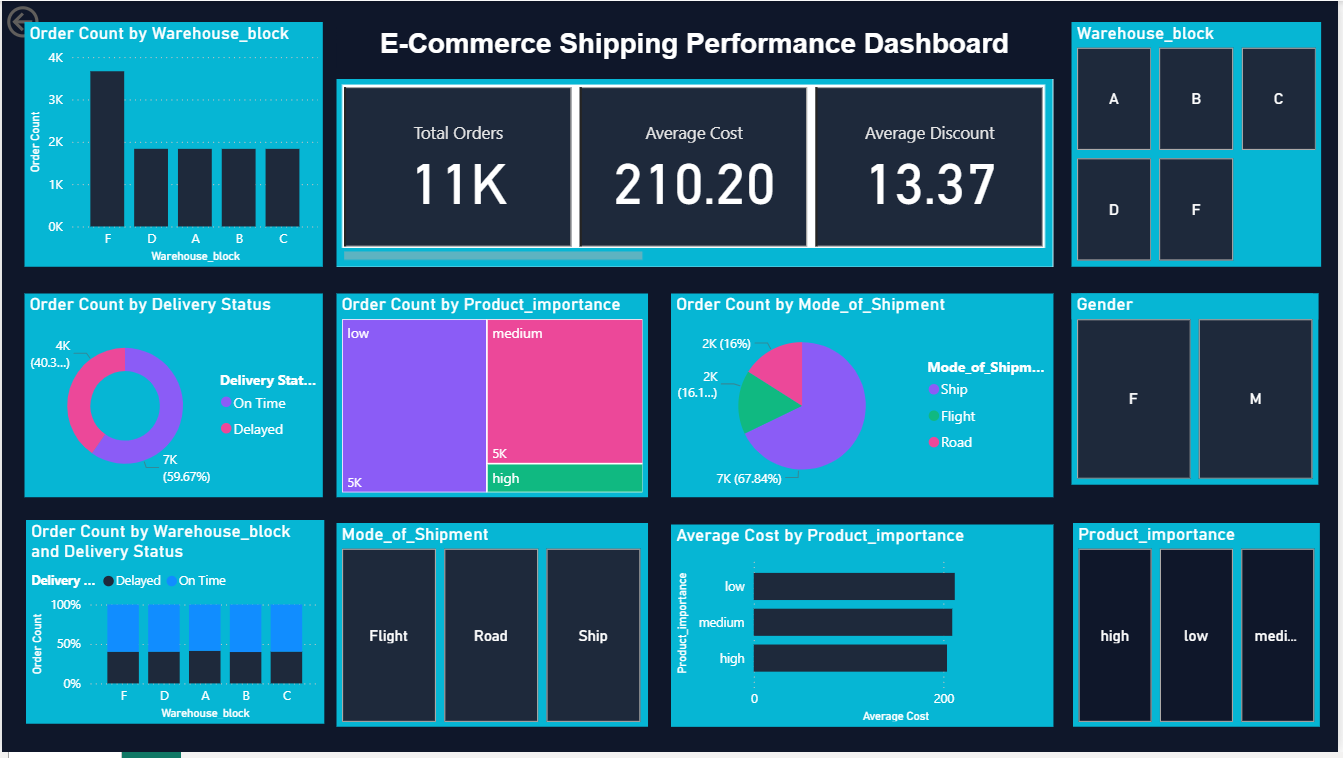

The page's visual inventory and layout, read from the dashboard file:
{"tool":"powerbi","page":{"name":"Page 1","canvas":[1280,720],"ordinal":0},"visuals":[{"type":"cardVisual","fields":{"Data":["Ecommerce Shipping Data.Total Orders","Ecommerce Shipping Data.Average Cost","Ecommerce Shipping Data.Average Discount","Ecommerce Shipping Data.Average Rating","Ecommerce Shipping Data.Average Weight","Ecommerce Shipping Data.Delayed %","Ecommerce Shipping Data.On Time %"]},"box":[321.2,74.2,686.4,180.3],"z":0},{"type":"actionButton","box":[0,0,100,40],"z":1000},{"type":"treemap","fields":{"Group":["Ecommerce Shipping Data.Product_importance"],"Values":["Ecommerce Shipping Data.Order Count"]},"box":[321.2,280.3,298.5,195.5],"z":2000},{"type":"clusteredColumnChart","fields":{"Category":["Ecommerce Shipping Data.Warehouse_block"],"Y":["Ecommerce Shipping Data.Order Count"]},"box":[21.2,19.7,286.2,234.7],"z":3000},{"type":"pieChart","fields":{"Category":["Ecommerce Shipping Data.Mode_of_Shipment"],"Y":["Ecommerce Shipping Data.Order Count"]},"box":[640.9,280.3,366.7,195.5],"z":4000},{"type":"donutChart","fields":{"Category":["Ecommerce Shipping Data.Delivery Status"],"Y":["Ecommerce Shipping Data.Order Count"]},"box":[21.2,280.1,286.2,195.3],"z":5000},{"type":"hundredPercentStackedColumnChart","fields":{"Category":["Ecommerce Shipping Data.Warehouse_block"],"Y":["Ecommerce Shipping Data.Order Count"],"Series":["Ecommerce Shipping Data.Delivery Status"]},"box":[22.7,498.2,286.2,195.3],"z":6000},{"type":"advancedSlicerVisual","fields":{"Values":["Ecommerce Shipping Data.Warehouse_block"]},"box":[1025.8,19.7,239.4,234.8],"z":7000},{"type":"advancedSlicerVisual","fields":{"Values":["Ecommerce Shipping Data.Mode_of_Shipment"]},"box":[321.2,500,298.5,195.5],"z":8000},{"type":"advancedSlicerVisual","fields":{"Values":["Ecommerce Shipping Data.Gender"]},"box":[1025.8,280.3,236.4,183.3],"z":9000},{"type":"advancedSlicerVisual","fields":{"Values":["Ecommerce Shipping Data.Product_importance"]},"box":[1027.3,500,236.4,195.5],"z":10000},{"type":"clusteredBarChart","fields":{"Category":["Ecommerce Shipping Data.Product_importance"],"Y":["Ecommerce Shipping Data.Average Cost"]},"box":[640.9,501.5,366.7,193.9],"z":11000},{"type":"textbox","box":[321.2,19.7,686.4,43.9],"z":12000}]}

Visuals, with their boxes in screenshot pixels (x1, y1, x2, y2), scaled from the page's 1280x720 canvas onto the 1343x758 screenshot:
cardVisual - Ecommerce Shipping Data.Total Orders x Ecommerce Shipping Data.Average Cost: locate(337, 78, 1057, 268)
actionButton: locate(0, 0, 105, 42)
treemap - Ecommerce Shipping Data.Product_importance x Ecommerce Shipping Data.Order Count: locate(337, 295, 650, 501)
clusteredColumnChart - Ecommerce Shipping Data.Warehouse_block x Ecommerce Shipping Data.Order Count: locate(22, 21, 323, 268)
pieChart - Ecommerce Shipping Data.Mode_of_Shipment x Ecommerce Shipping Data.Order Count: locate(672, 295, 1057, 501)
donutChart - Ecommerce Shipping Data.Delivery Status x Ecommerce Shipping Data.Order Count: locate(22, 295, 323, 500)
hundredPercentStackedColumnChart - Ecommerce Shipping Data.Warehouse_block x Ecommerce Shipping Data.Order Count: locate(24, 524, 324, 730)
advancedSlicerVisual - Ecommerce Shipping Data.Warehouse_block: locate(1076, 21, 1327, 268)
advancedSlicerVisual - Ecommerce Shipping Data.Mode_of_Shipment: locate(337, 526, 650, 732)
advancedSlicerVisual - Ecommerce Shipping Data.Gender: locate(1076, 295, 1324, 488)
advancedSlicerVisual - Ecommerce Shipping Data.Product_importance: locate(1078, 526, 1326, 732)
clusteredBarChart - Ecommerce Shipping Data.Product_importance x Ecommerce Shipping Data.Average Cost: locate(672, 528, 1057, 732)
textbox: locate(337, 21, 1057, 67)
